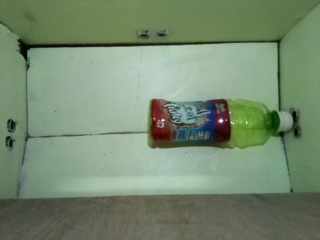bottle: (144, 99, 295, 148)
